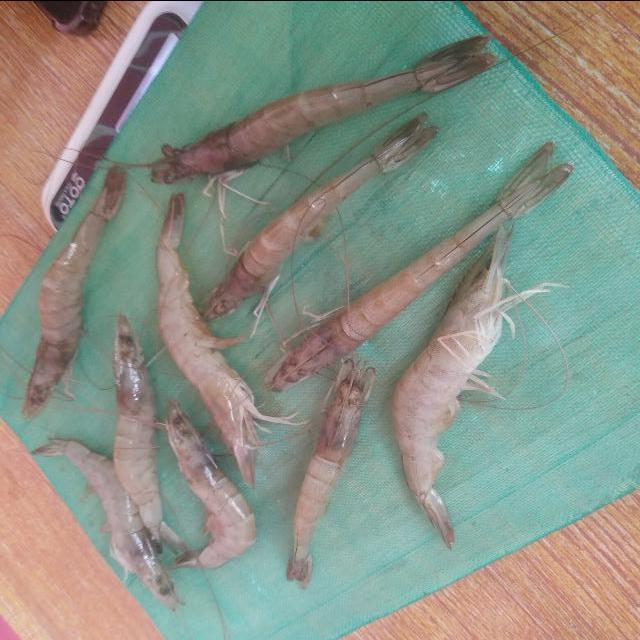shrimp: (266, 141, 574, 391), (393, 226, 562, 549), (148, 33, 497, 182), (204, 112, 438, 319), (157, 192, 306, 486), (21, 166, 125, 419), (31, 439, 181, 610), (287, 358, 376, 589), (112, 313, 183, 550), (165, 400, 256, 570)
